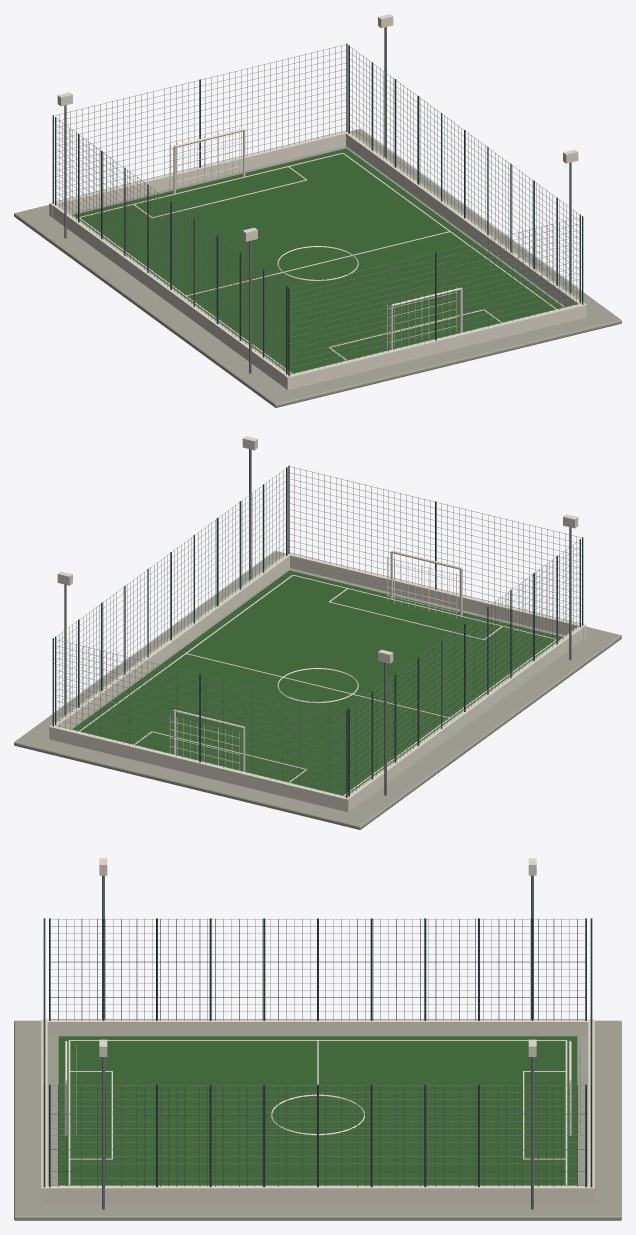
File: gms-30.glb
3 views of the same model, one above another, from view 1: azimuth 30°, elevation 25°; view 2: azimuth 150°, elevation 25°; view 3: azimuth 270°, elevation 25° (orthographic). The views are drawn at different scales.
Parts seen in each view (by area): view 1: Rectangular synthetic grass field, Fine perimeter mesh, White goal post, Context plinth, Fence steel post, Touchline; view 2: Rectangular synthetic grass field, Fine perimeter mesh, White goal post, Context plinth, Fence steel post, Touchline; view 3: Rectangular synthetic grass field, Fine perimeter mesh, Context plinth, White goal post, Fence steel post, Touchline.
Boxes of the visible parts, box(x1,y1,x2,y2) form: Rectangular synthetic grass field: box(73, 148, 563, 374); Fine perimeter mesh: box(54, 27, 581, 374); White goal post: box(49, 14, 586, 389); Context plinth: box(14, 129, 621, 407); Fence steel post: box(52, 43, 583, 376); Touchline: box(79, 153, 556, 373); Rectangular synthetic grass field: box(72, 570, 562, 796); Fine perimeter mesh: box(54, 449, 581, 796); White goal post: box(49, 436, 586, 811); Context plinth: box(14, 551, 621, 829); Fence steel post: box(52, 465, 583, 798); Touchline: box(79, 575, 556, 795); Rectangular synthetic grass field: box(58, 1036, 577, 1184); Fine perimeter mesh: box(44, 875, 591, 1209); Context plinth: box(14, 1020, 621, 1220); White goal post: box(41, 858, 594, 1202); Fence steel post: box(43, 918, 592, 1187); Touchline: box(68, 1040, 567, 1184).
Size of the model in its own units: 13 by 5.26 by 17.
